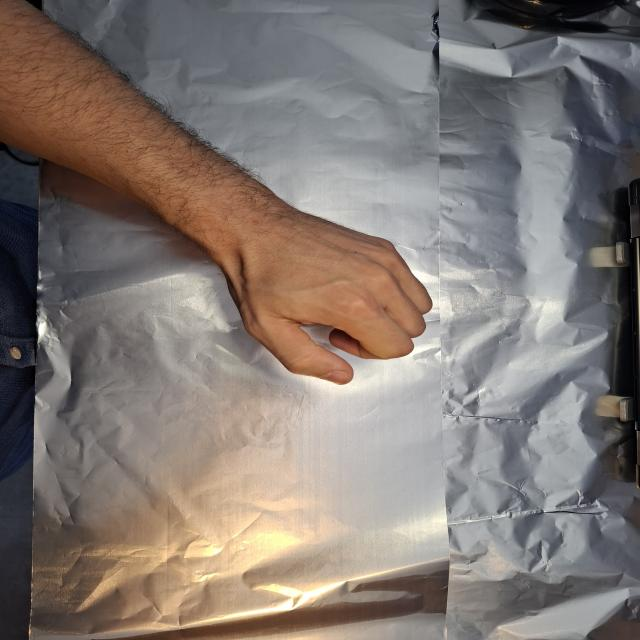glove_off: (203, 191, 433, 382)
